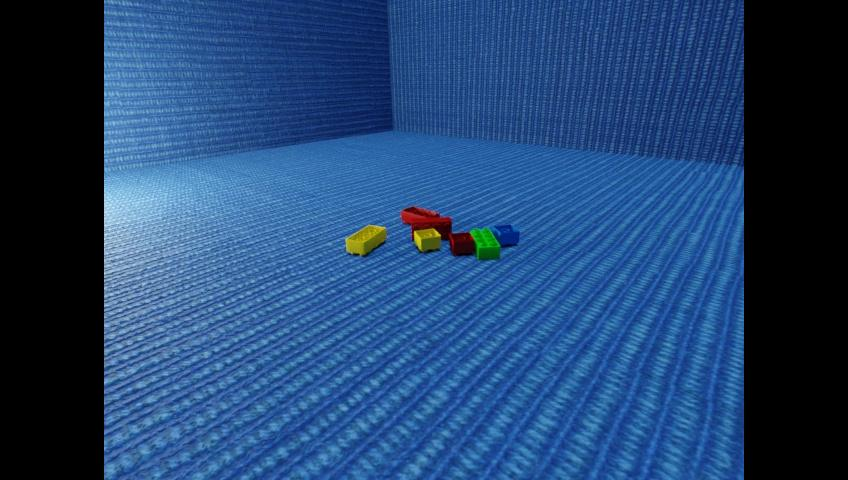2x2_blue: (492, 223, 518, 246)
2x2_red: (449, 231, 474, 255)
2x2_yellow: (414, 228, 440, 251)
4x2_green: (470, 227, 499, 259)
4x2_red: (411, 217, 452, 240), (401, 205, 438, 223)
4x2_yellow: (345, 224, 385, 255)
